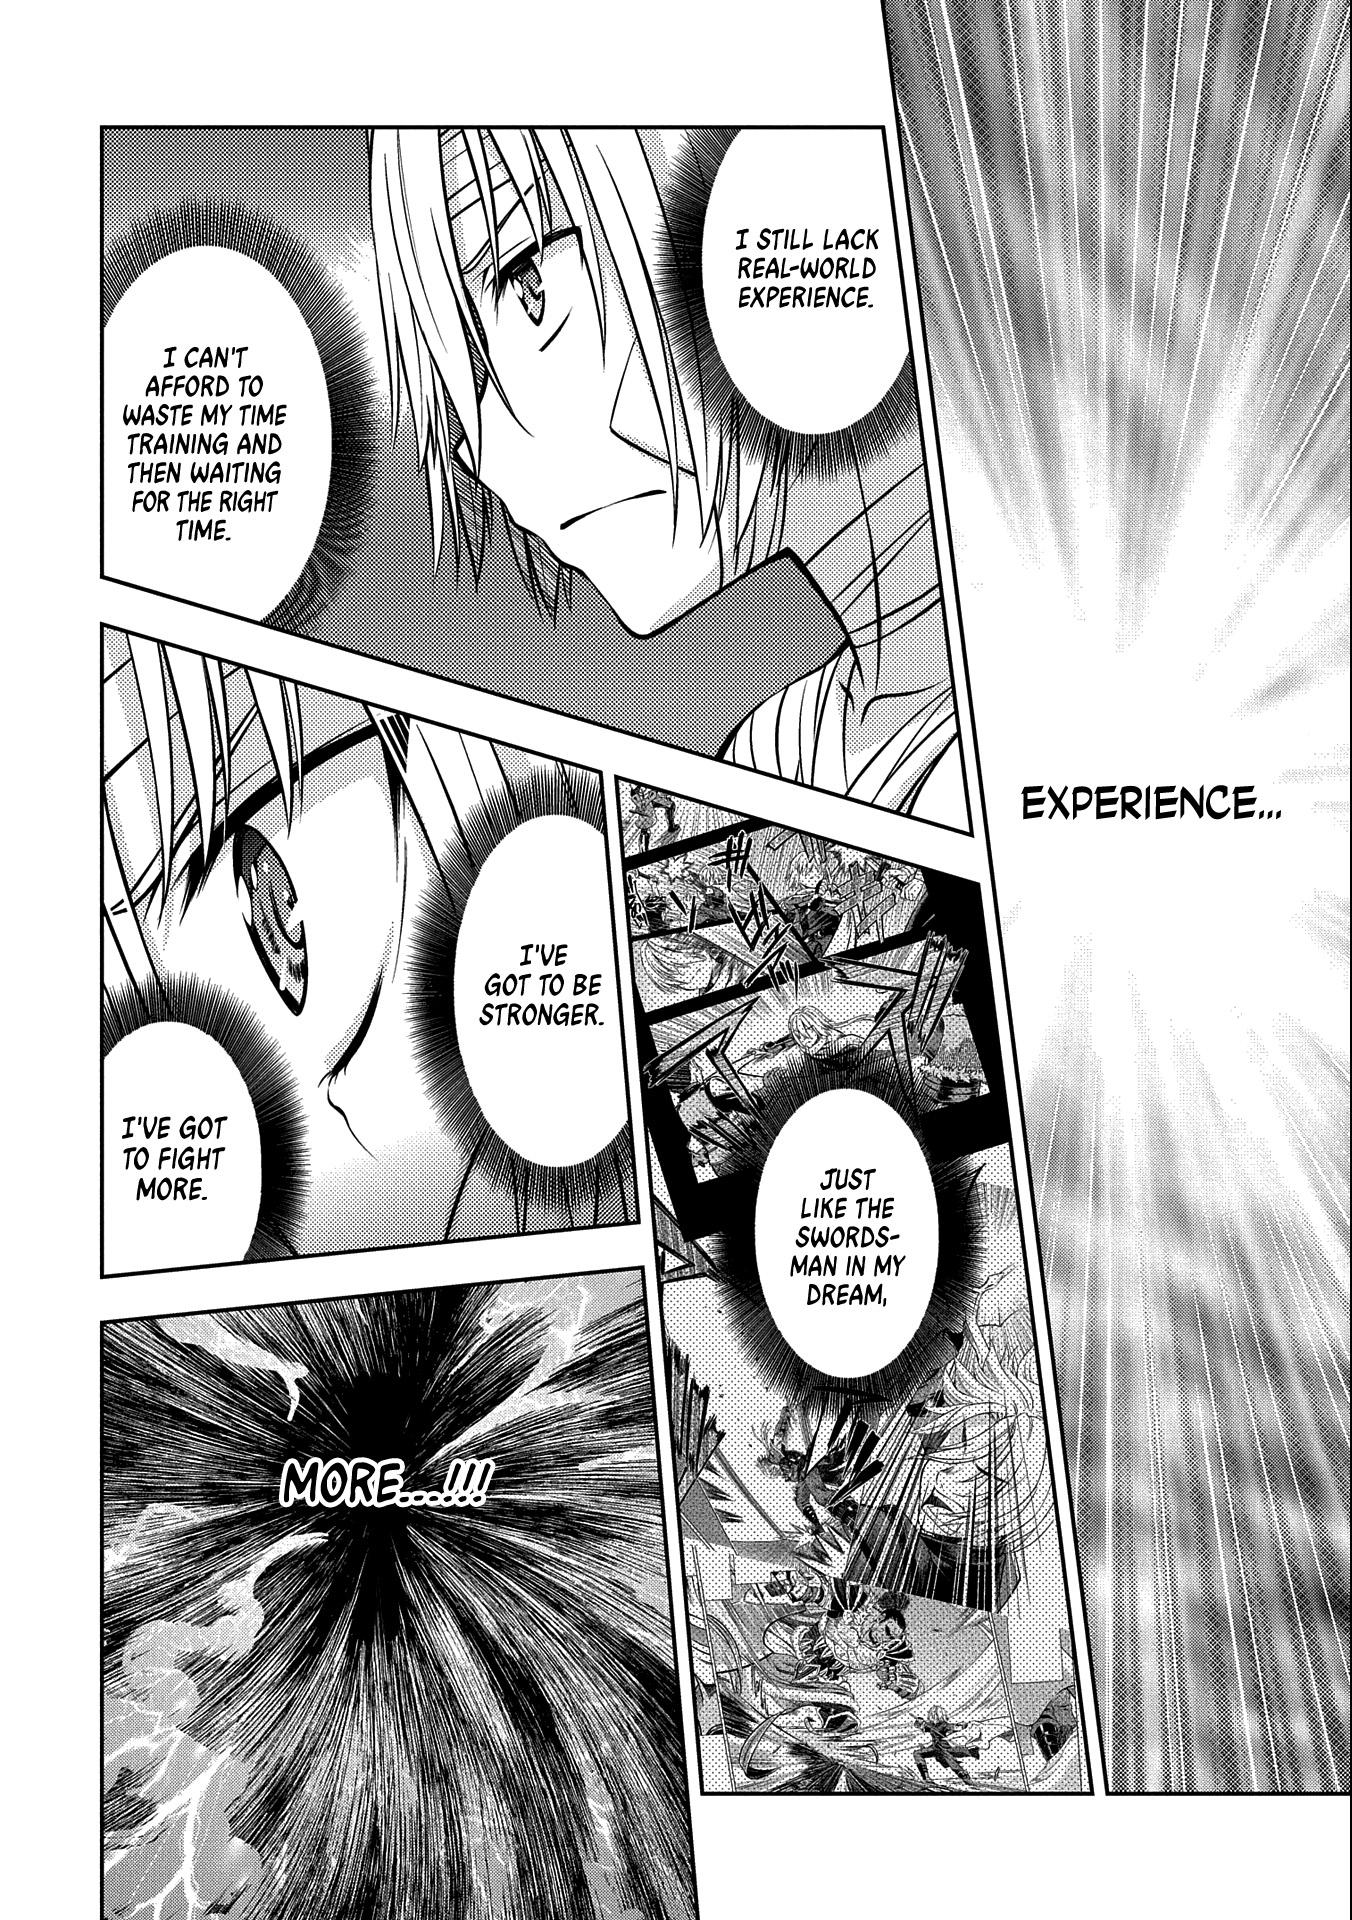Bubble: (101, 237, 338, 623), (698, 120, 912, 436), (451, 811, 632, 1171), (754, 1080, 944, 1383), (94, 1017, 266, 1282)
